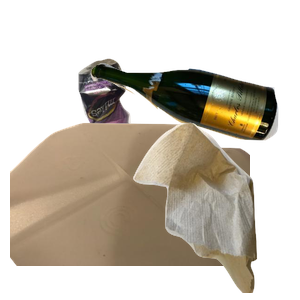glass: (88, 60, 300, 193)
metal: (75, 56, 198, 185)
plastic: (10, 120, 250, 300)
trash: (131, 120, 300, 300)
